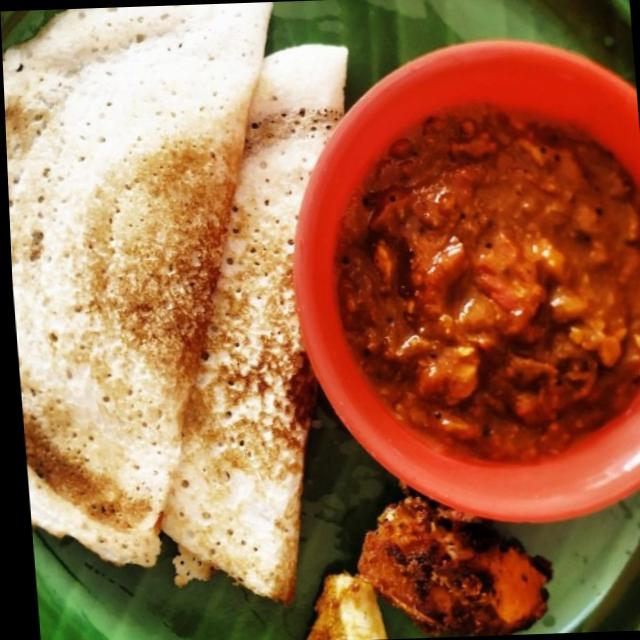CURRY: (334, 99, 640, 467)
DOSA: (3, 3, 346, 598)
